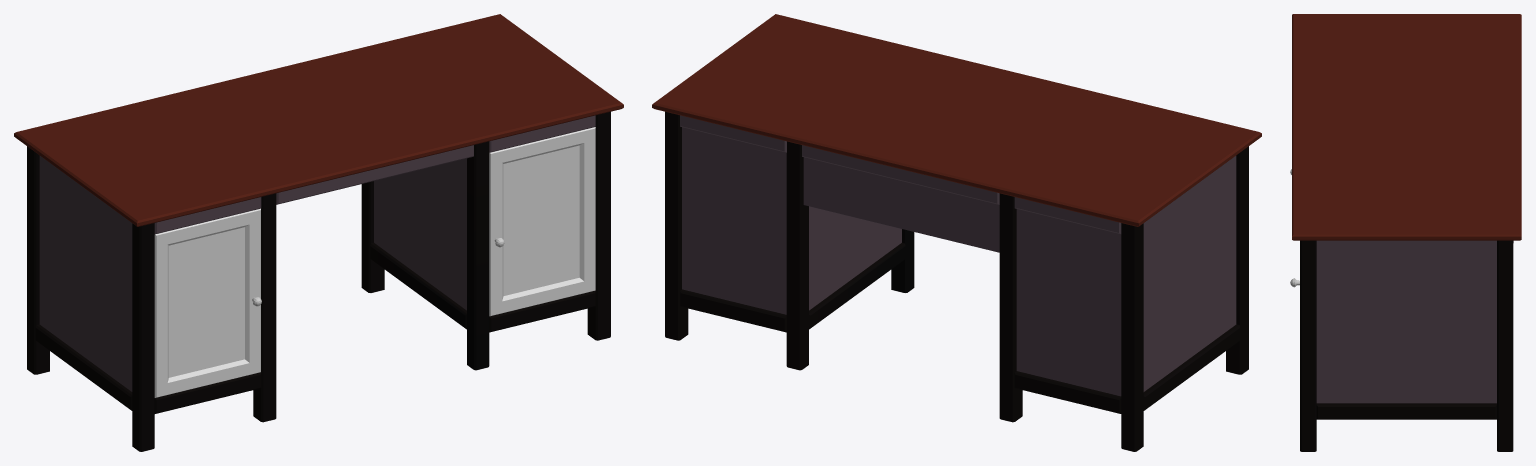
Rendered from desk.FBX.
3 renders of one model, left to right at view 1: azimuth 30°, elevation 25°; view 2: azimuth 150°, elevation 25°; view 3: azimuth 270°, elevation 25°, orthographic. The views are drawn at different scales.
Visible parts, largest first — view 1: desk, door1, door2; view 2: desk; view 3: desk.
Part boxes in pixels (bbox=[...]): desk: bbox=[14, 14, 623, 451]; door1: bbox=[154, 208, 260, 397]; door2: bbox=[489, 127, 595, 316]; desk: bbox=[652, 14, 1261, 451]; desk: bbox=[1292, 14, 1521, 451].
Size of the model in its own units: 160 by 74 by 70.47.
